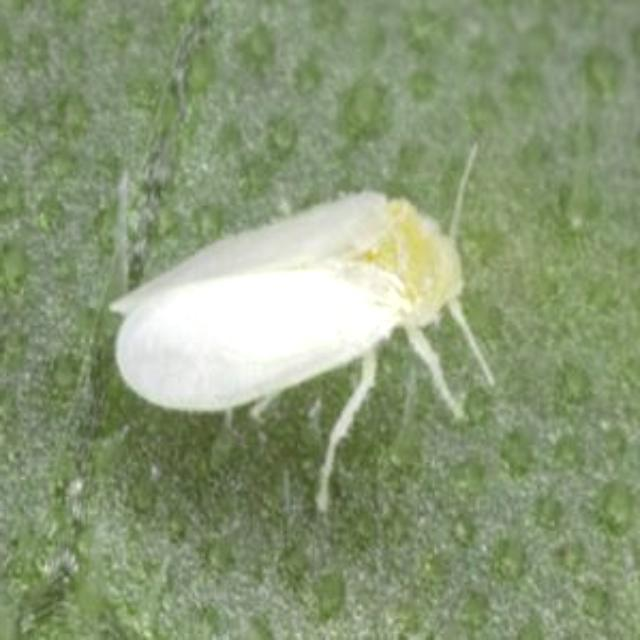Silverleaf whitefly: (96, 119, 526, 489)
